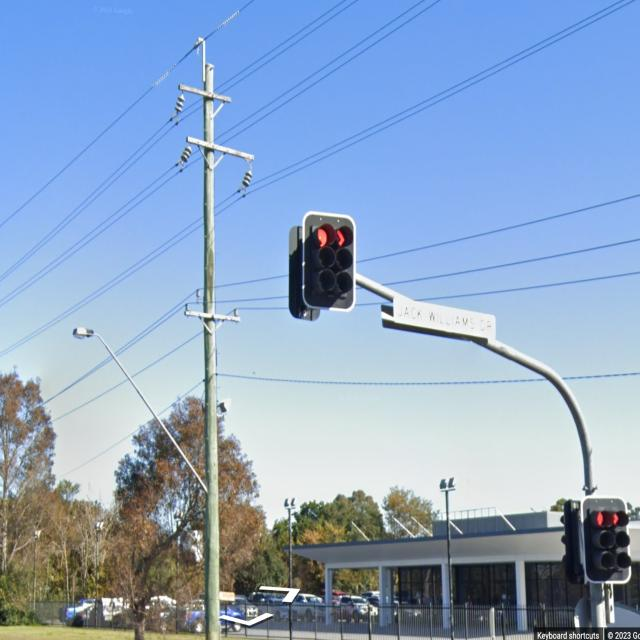HV-transmission: (168, 35, 253, 198)
crossarm: (186, 136, 252, 158), (177, 82, 230, 101), (184, 308, 241, 324)
steel-pole: (444, 492, 454, 640), (589, 589, 609, 633), (287, 510, 292, 639)
streetlight: (73, 328, 203, 491)
timber-pole: (204, 63, 220, 640)
traffic-light: (288, 212, 354, 321), (559, 502, 630, 584)
